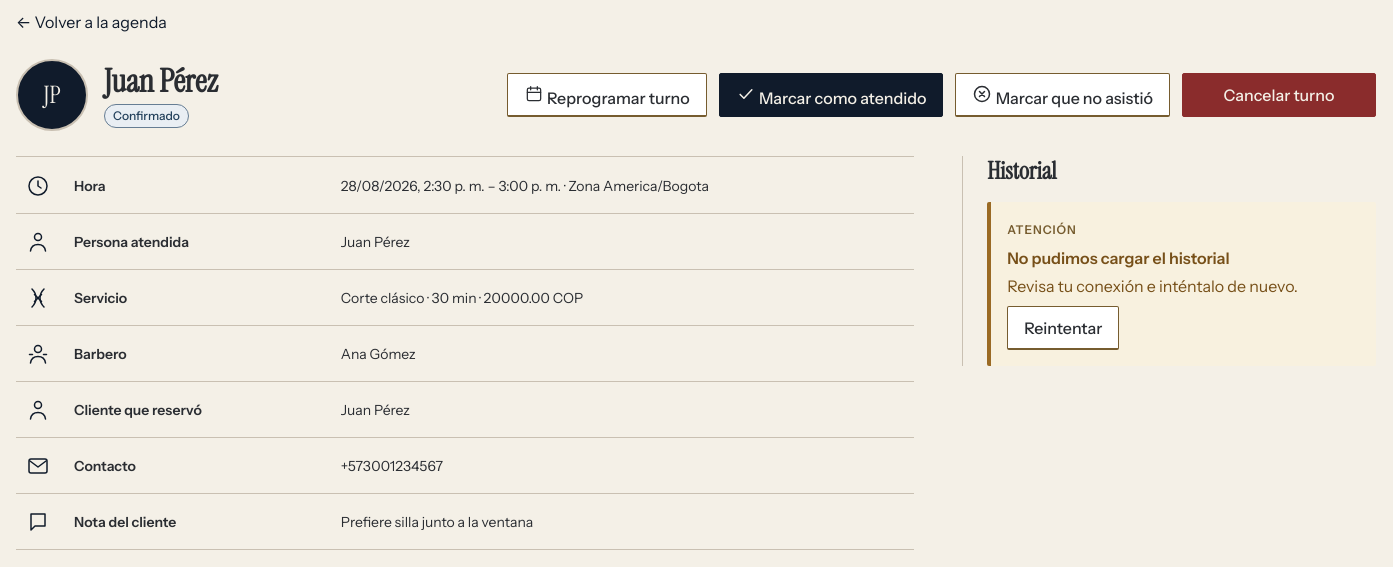
Test: AppointmentDetailPage › shows a history load error with retry
Click the button "Reintentar" at point(1063, 328), box x1=1007 y1=306 x2=1119 y2=350
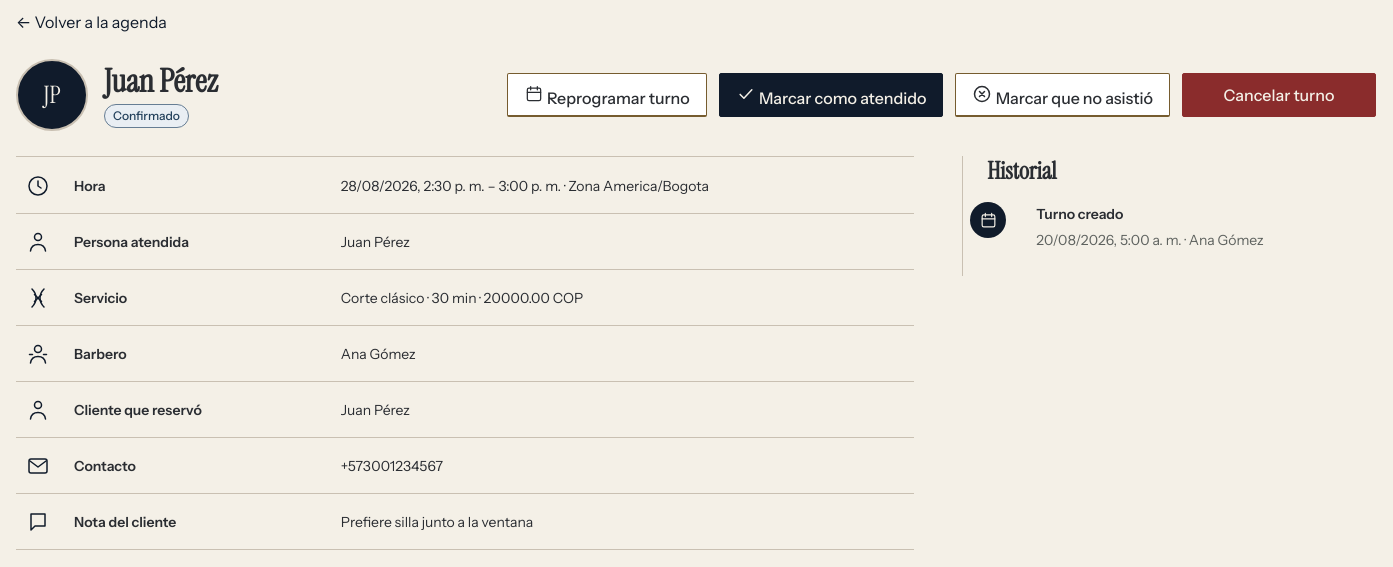
Expected: the text "Turno creado" is shown, x1=1036 y1=205 x2=1123 y2=223
